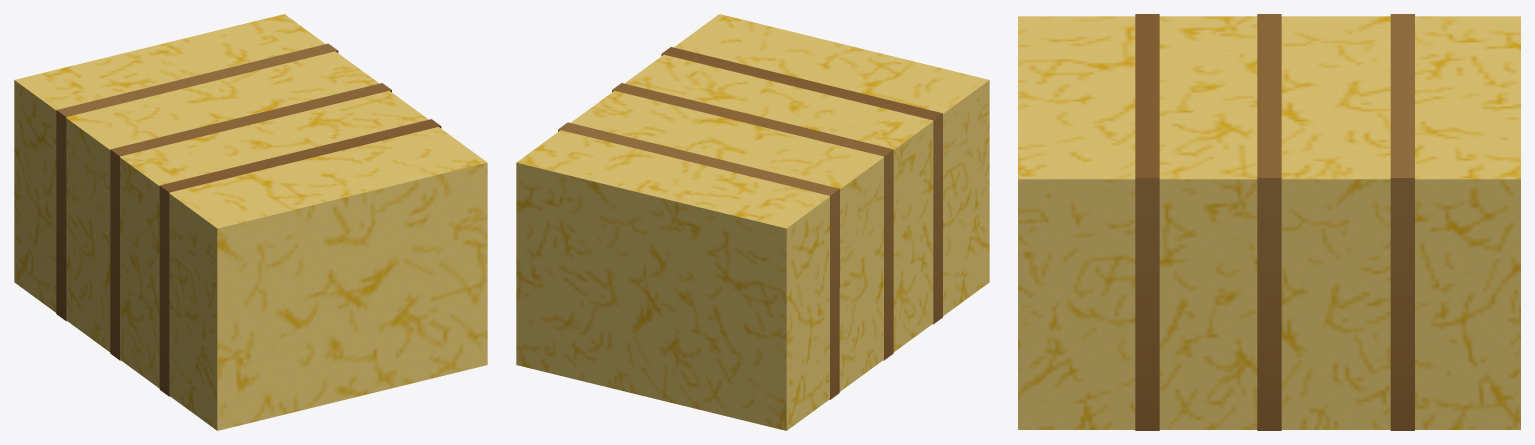
The model's file is Bale2.fbx.
3 views of the same model, side by side, from view 1: azimuth 30°, elevation 25°; view 2: azimuth 150°, elevation 25°; view 3: azimuth 270°, elevation 25° (orthographic). The views are drawn at different scales.
Visible parts, largest first — view 1: bale; view 2: bale; view 3: bale.
Boxes of the visible parts, bbox=[...] form: bale: bbox=[14, 14, 487, 430]; bale: bbox=[516, 14, 989, 430]; bale: bbox=[1018, 14, 1520, 430].
Bounding box in the file's own units: 181 × 130 × 234.
